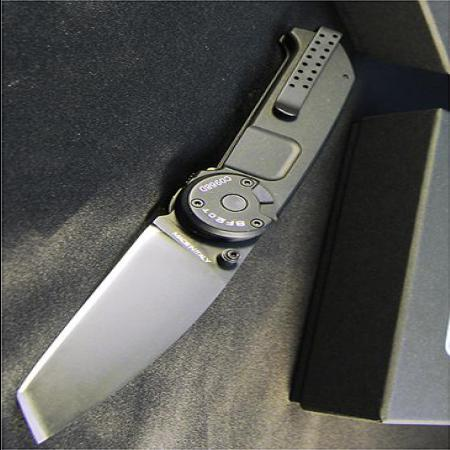long weapon: (2, 205, 258, 450)
